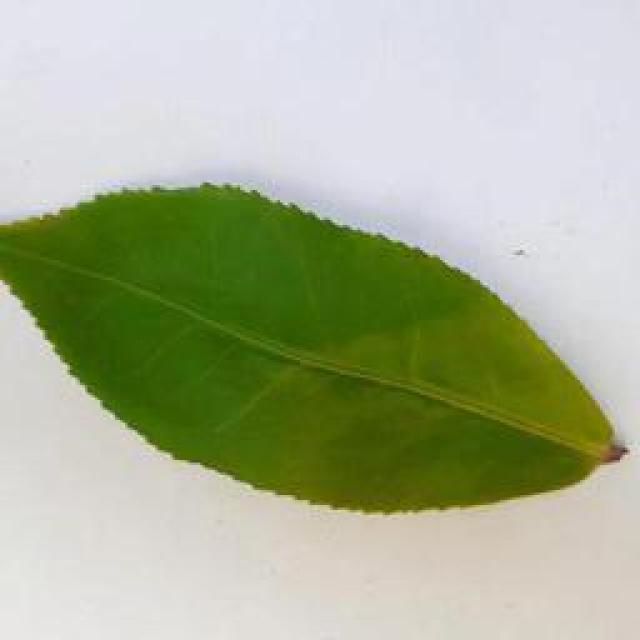Healthy: (0, 165, 630, 517)
